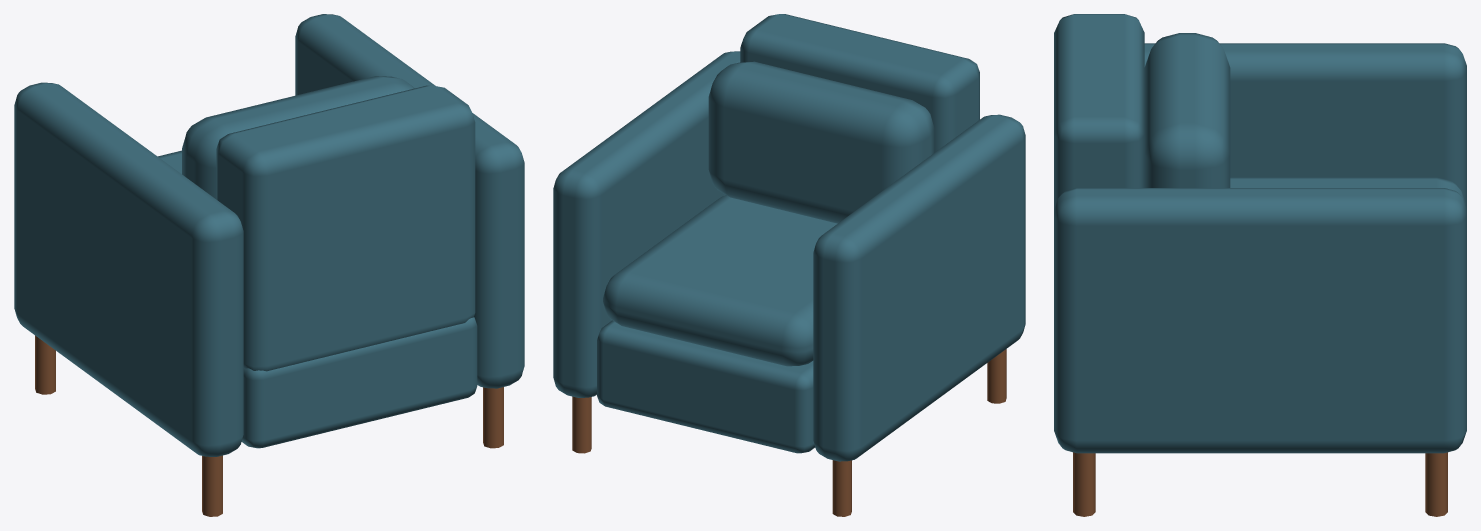
The picture shows the model from 3 angles, left to right: view 1: azimuth 30°, elevation 25°; view 2: azimuth 150°, elevation 25°; view 3: azimuth 270°, elevation 25°; orthographic projection. The views are drawn at different scales.
Parts seen in each view (by area): view 1: arm-left, back-frame, arm-right, base, back-cushion, leg-rb340, leg-lb340, leg-lf340; view 2: arm-left, arm-right, back-cushion, seat, base, back-frame, leg-rf340, leg-lf340, leg-lb340; view 3: arm-right, arm-left, back-frame, back-cushion, seat, leg-rf340, leg-rb340.
Part boxes in pixels (x1,y1,x2,y2): arm-left: [14, 82, 243, 456]; back-frame: [216, 85, 475, 371]; arm-right: [295, 14, 524, 388]; base: [241, 317, 477, 448]; back-cushion: [182, 76, 414, 198]; leg-rb340: [483, 387, 503, 448]; leg-lb340: [202, 455, 222, 516]; leg-lf340: [35, 335, 55, 394]; arm-left: [813, 114, 1025, 461]; arm-right: [553, 51, 740, 397]; back-cushion: [708, 61, 934, 223]; seat: [603, 195, 837, 366]; base: [597, 320, 815, 453]; back-frame: [740, 14, 979, 152]; leg-rf340: [572, 396, 591, 453]; leg-lf340: [832, 460, 851, 516]; leg-lb340: [987, 349, 1006, 403]; arm-right: [1054, 188, 1466, 453]; arm-left: [1144, 43, 1466, 206]; back-frame: [1054, 14, 1144, 209]; back-cushion: [1144, 33, 1230, 187]; seat: [1230, 177, 1466, 209]; leg-rf340: [1425, 452, 1447, 516]; leg-rb340: [1073, 452, 1095, 516].
Size of the model in its own units: 0.8 by 0.82 by 0.82.
